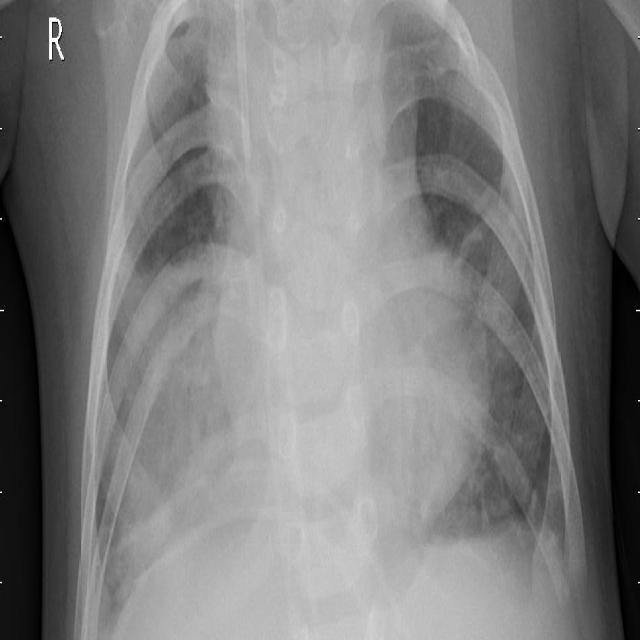low-pneumonia: (134, 250, 227, 503), (432, 358, 533, 550), (388, 1, 472, 185), (142, 11, 231, 166)
